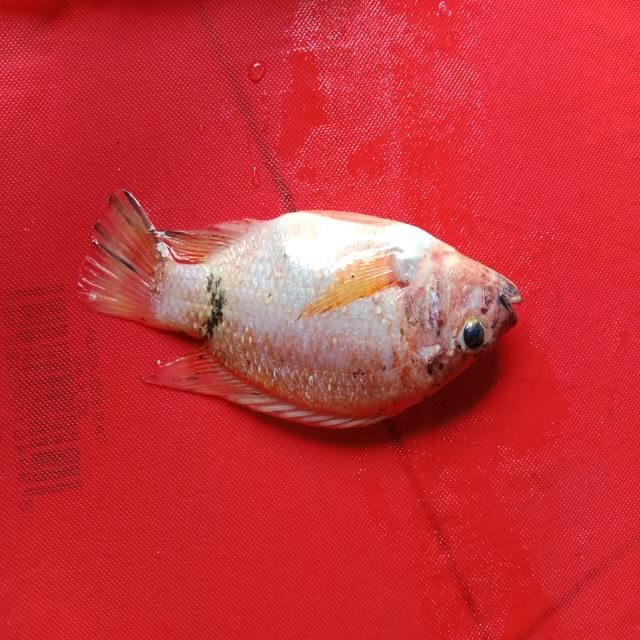ikan: (60, 170, 569, 458)
